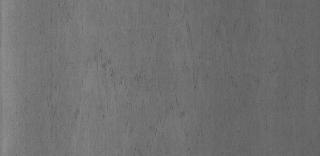silk spot: (71, 14, 286, 150)
